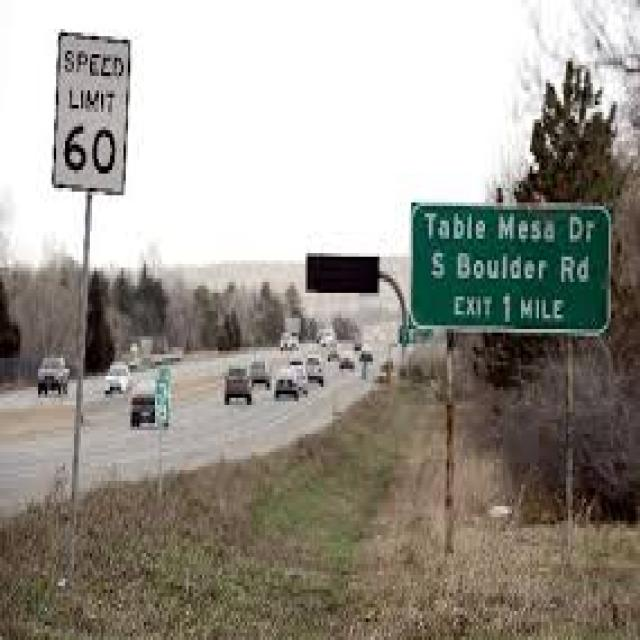speedLimit60: (51, 27, 138, 201)
